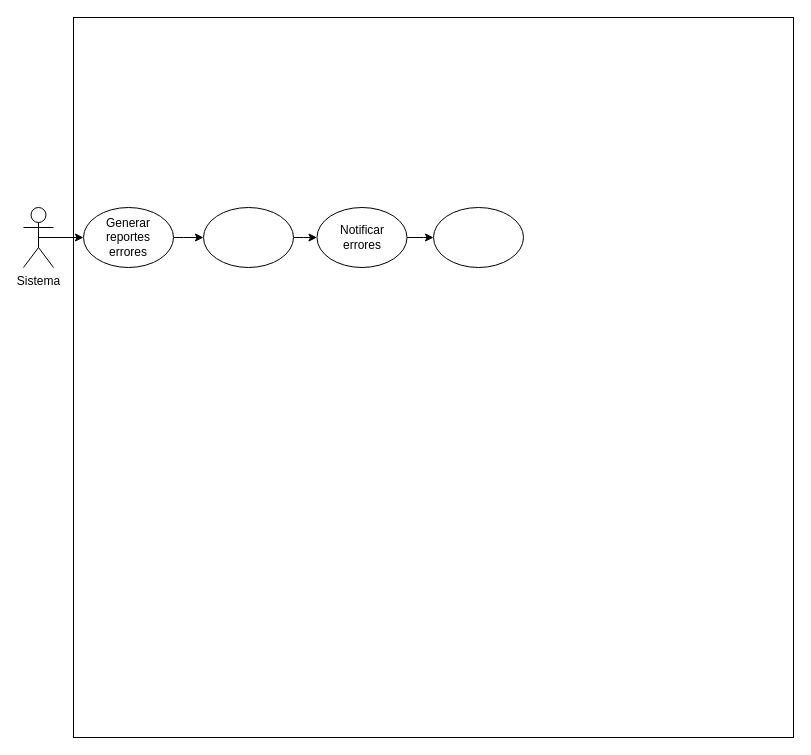
This 811x755 diagram has some shape labels left out. The shapes that lost their labels are listed below. From the top down, each one's centre as x and y in pixels, then its label:
At pixel 248 237: "Escanear estado dispositivo".
At pixel 478 237: "Registrar en el historial".
